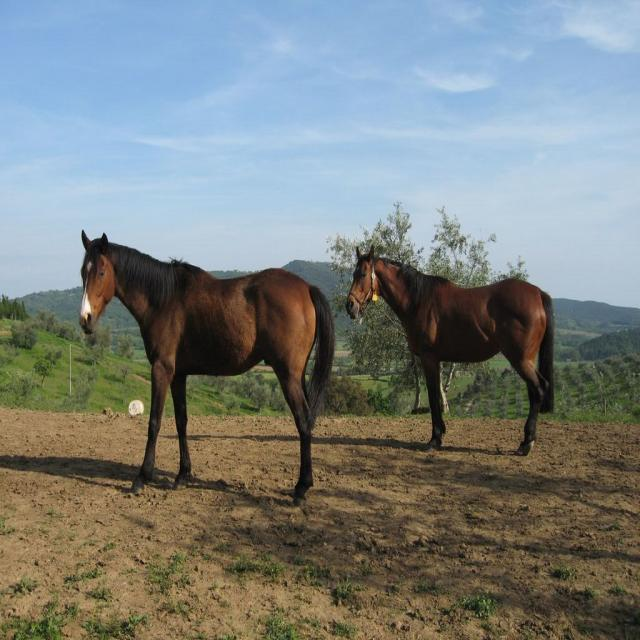Horse: (79, 229, 336, 507), (345, 245, 554, 456)
